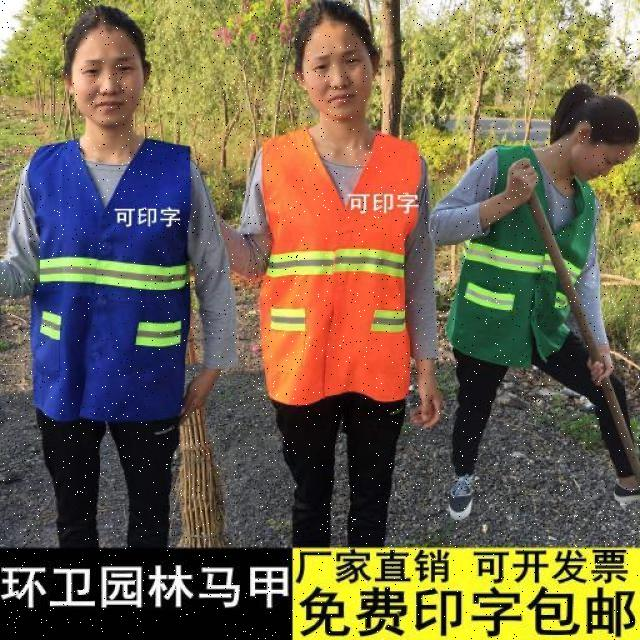Person: (243, 14, 431, 547), (9, 16, 193, 552), (451, 91, 638, 525)
Vest: (31, 141, 192, 416), (259, 136, 419, 399), (462, 165, 608, 325)
